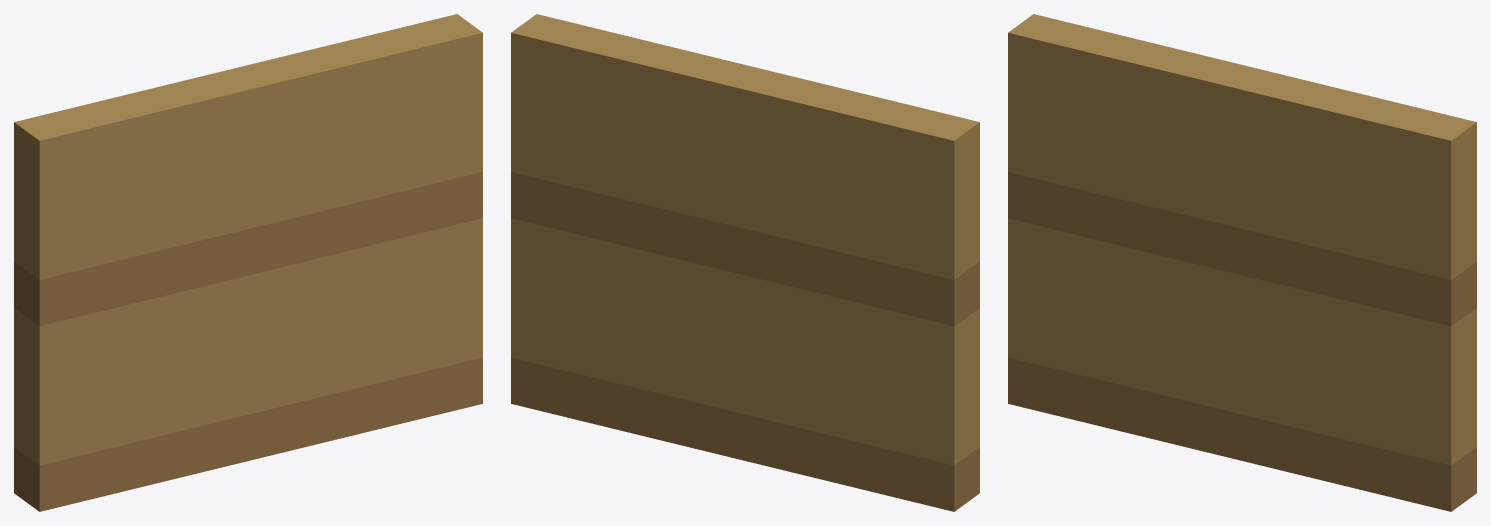
Rendered from Board.glb.
3 renders of one model, left to right at view 1: azimuth 30°, elevation 25°; view 2: azimuth 150°, elevation 25°; view 3: azimuth 330°, elevation 25°, orthographic.
Parts seen in each view (by area): view 1: generated(Clone); view 2: generated(Clone); view 3: generated(Clone).
Boxes of the visible parts, box(x1,y1,x2,y2) form: generated(Clone): box(14, 14, 482, 511); generated(Clone): box(511, 14, 979, 511); generated(Clone): box(1008, 14, 1476, 511).
Size of the model in its own units: 10 by 8 by 0.9998.
1 material, 1 textured.
